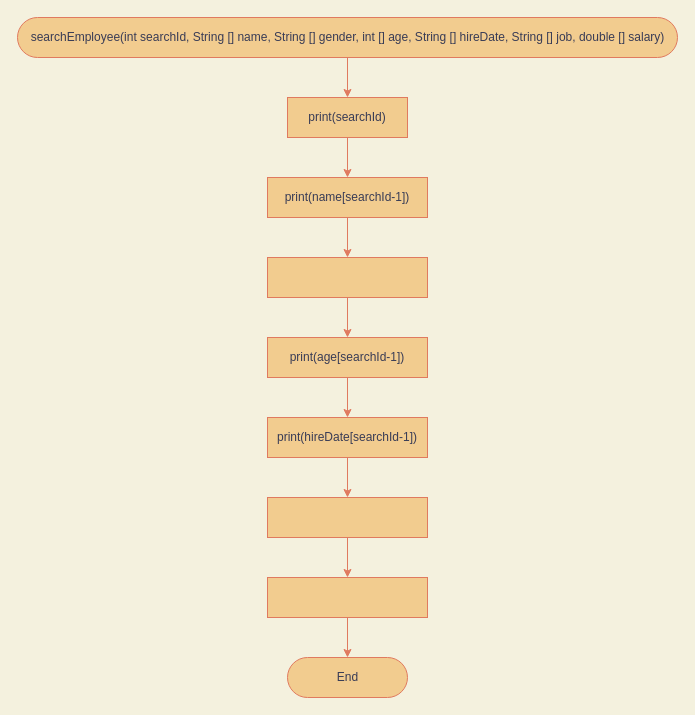
Image size: 695x715. Some labels were removed from this diagram. The shapes that lost their labels are listed below. From the top down, each one's centre as x and y in pixels, then its label:
At (347,277): "print(gender[searchId-1])".
At (347,517): "print(job[searchId-1])".
At (347,597): "print(salary[searchId-1])".
